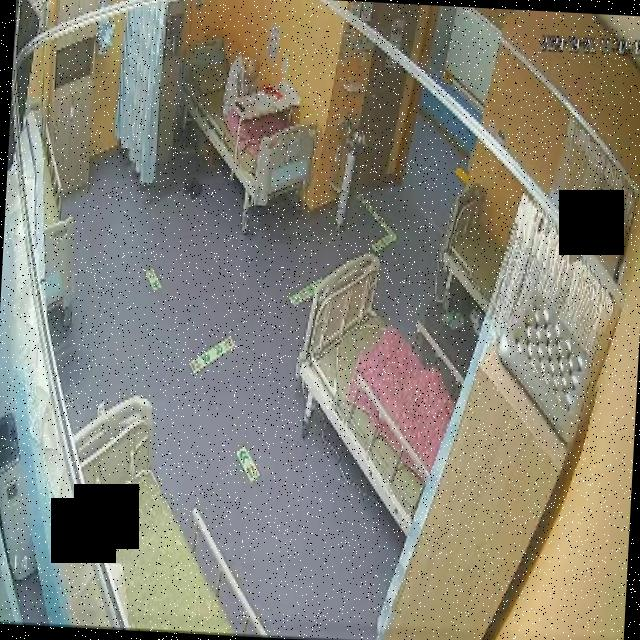bed: (62, 397, 278, 638), (290, 252, 462, 535), (170, 35, 324, 210), (439, 182, 509, 316)
patient: (220, 49, 264, 120)
sit: (222, 44, 261, 114)
